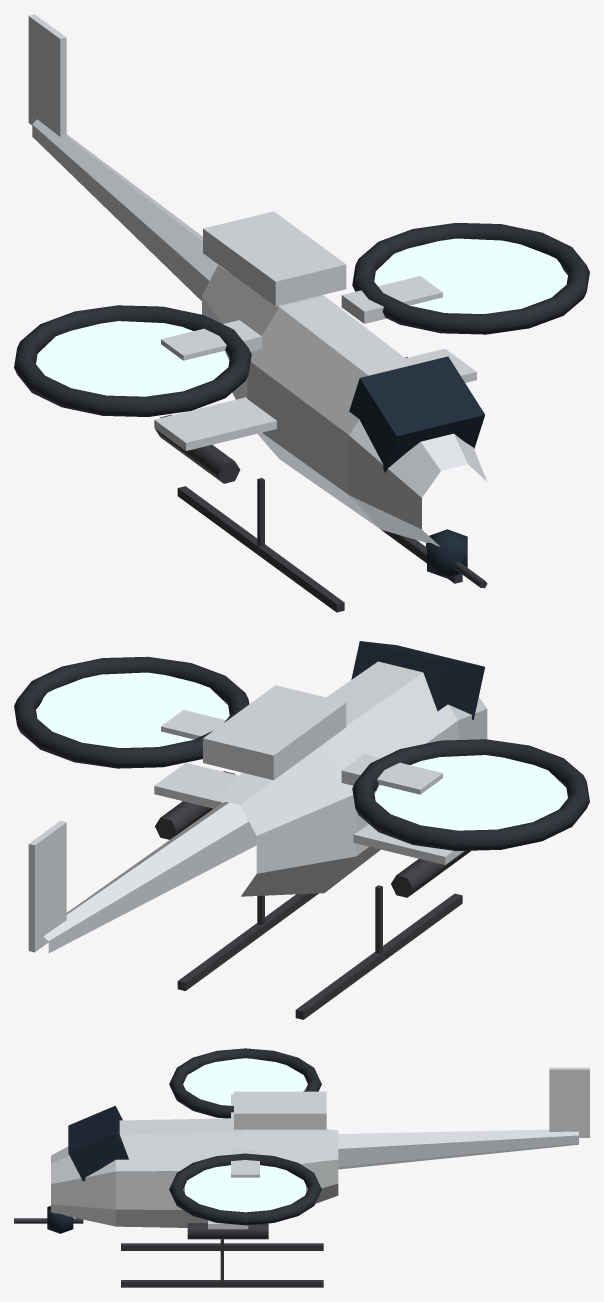
Rendered from veh_air_heli_attack_a09.glb.
3 renders of one model, top to bottom at view 1: azimuth 30°, elevation 25°; view 2: azimuth 150°, elevation 25°; view 3: azimuth 270°, elevation 25°, orthographic. The views are drawn at different scales.
Visible parts, largest first — view 1: body, rotor_r, rotor_l; view 2: body, rotor_r, rotor_l; view 3: body, rotor_l, rotor_r.
Part boxes in pixels (x1,y1,x2,y2): body: [28, 14, 486, 612]; rotor_r: [14, 305, 251, 416]; rotor_l: [352, 223, 589, 334]; body: [28, 641, 487, 1019]; rotor_r: [352, 739, 589, 850]; rotor_l: [14, 656, 249, 768]; body: [47, 1067, 589, 1287]; rotor_l: [169, 1153, 321, 1225]; rotor_r: [169, 1048, 321, 1118].
Size of what is drawn, in the model's own units: 6.94 by 3.8 by 9.95.
